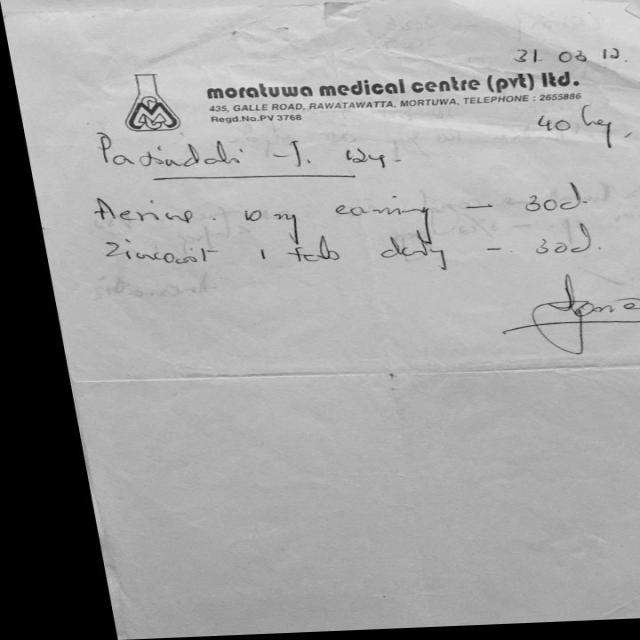Prescription: (77, 178, 587, 242), (84, 222, 588, 277)
